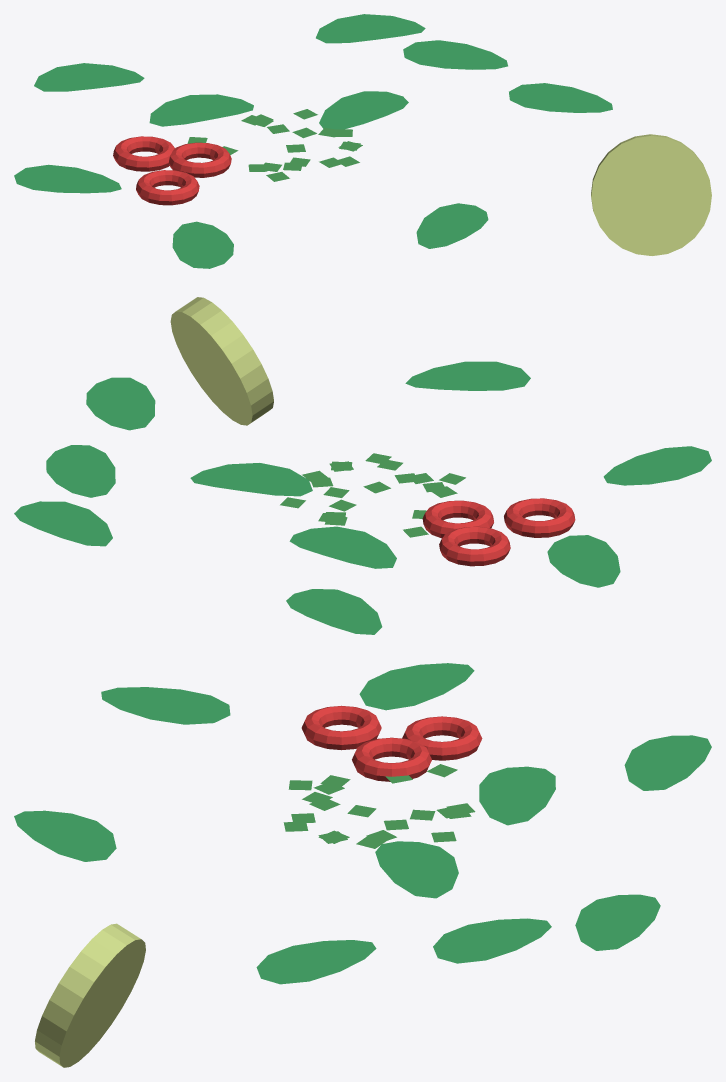
File: FOOD_pho_herb_garnish.glb
The picture shows the model from 3 angles, top to bottom: view 1: azimuth 30°, elevation 25°; view 2: azimuth 150°, elevation 25°; view 3: azimuth 270°, elevation 25°; orthographic projection. The views are drawn at different scales.
Parts seen in each view (by area): view 1: GarnishLayer; view 2: GarnishLayer; view 3: GarnishLayer.
Part boxes in pixels (<box>): GarnishLayer: <box>14,14,711,268</box>; GarnishLayer: <box>14,297,711,634</box>; GarnishLayer: <box>14,663,711,1067</box>.
Size of the model in its own units: 0.3117 by 0.0603 by 0.2778.
